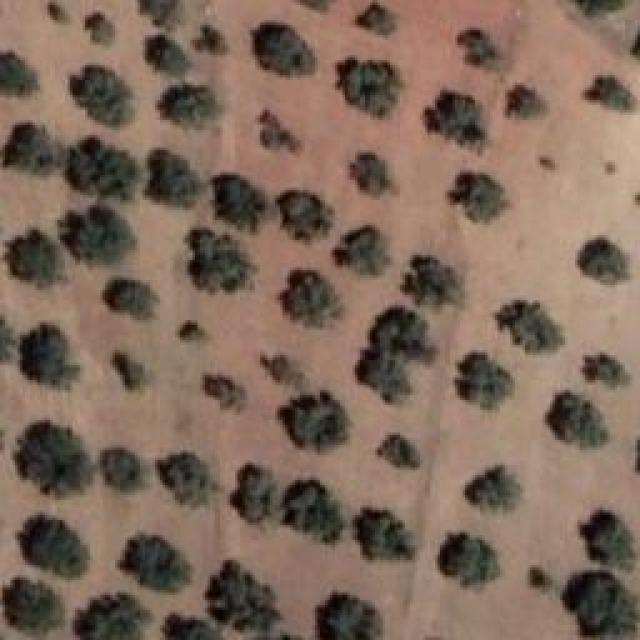Tree: (18, 423, 92, 496), (205, 563, 280, 633), (563, 572, 639, 637), (65, 138, 139, 201), (60, 205, 136, 262), (278, 390, 349, 451), (18, 520, 88, 580), (120, 537, 191, 592), (70, 65, 133, 126), (425, 90, 488, 151), (374, 305, 442, 361), (20, 324, 79, 388), (338, 63, 403, 119), (285, 480, 342, 542), (75, 595, 153, 640), (545, 394, 609, 448), (495, 303, 561, 355), (280, 270, 341, 326), (194, 230, 248, 293), (5, 230, 63, 287), (253, 25, 317, 76), (213, 175, 270, 232), (458, 353, 514, 411), (3, 580, 63, 633), (438, 535, 499, 587), (403, 255, 466, 305), (145, 150, 199, 207), (318, 592, 382, 640), (157, 452, 212, 507), (3, 125, 66, 173), (235, 460, 280, 527), (355, 508, 414, 559), (450, 172, 510, 222), (580, 513, 631, 571), (355, 350, 410, 403), (278, 192, 334, 242), (333, 225, 389, 275), (468, 467, 523, 512), (163, 85, 219, 128), (578, 238, 629, 285), (103, 278, 159, 319), (148, 35, 193, 77), (583, 75, 632, 111), (350, 153, 391, 196), (458, 30, 503, 68), (0, 53, 38, 95), (260, 355, 305, 390), (585, 354, 631, 388), (105, 448, 141, 491), (163, 615, 223, 640), (378, 435, 421, 469), (263, 110, 297, 151), (205, 375, 245, 408), (137, 0, 179, 29), (507, 85, 545, 117), (113, 353, 144, 391), (358, 3, 394, 35), (195, 25, 225, 53), (0, 317, 18, 362), (88, 13, 111, 46), (177, 320, 205, 342), (530, 568, 553, 590), (50, 3, 69, 25)
